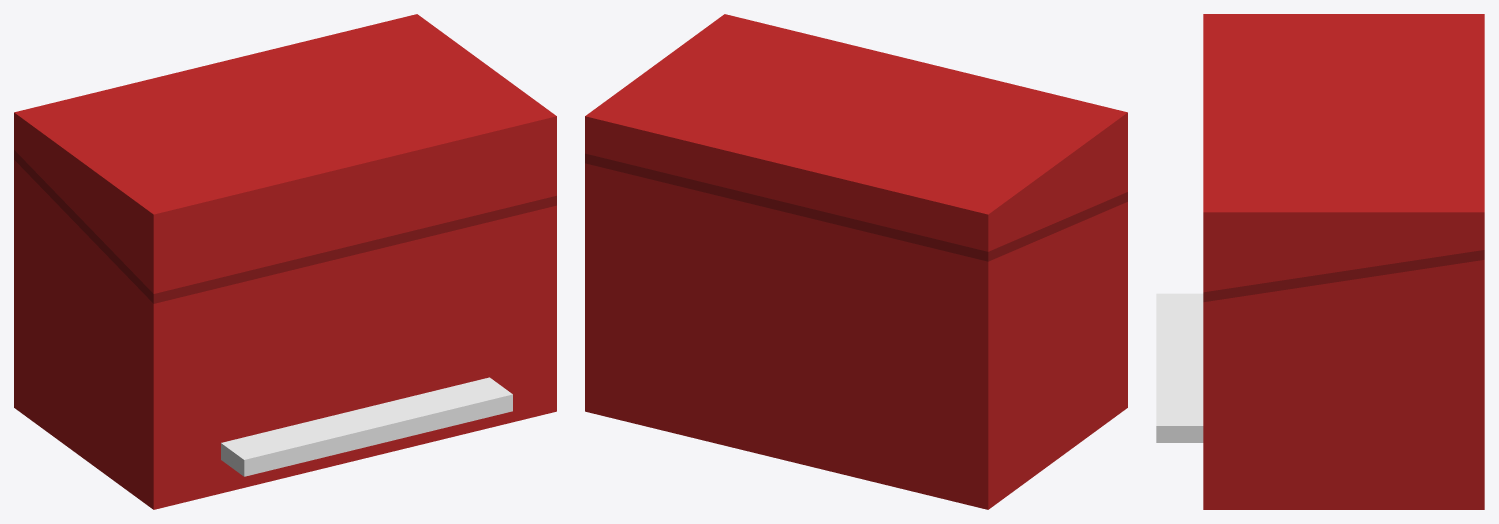
File: TrashBox.fbx
3 renders of one model, left to right at view 1: azimuth 30°, elevation 25°; view 2: azimuth 150°, elevation 25°; view 3: azimuth 270°, elevation 25°, orthographic.
Parts seen in each view (by area): view 1: TrashCan_02_Red; view 2: TrashCan_02_Red; view 3: TrashCan_02_Red.
Boxes of the visible parts, left/top/right/bottom form: TrashCan_02_Red: left=14, top=14, right=556, bottom=509; TrashCan_02_Red: left=585, top=14, right=1127, bottom=509; TrashCan_02_Red: left=1156, top=14, right=1484, bottom=509.
Size of the model in its own units: 20.49 by 14.34 by 14.34.
1 material, 1 textured.
